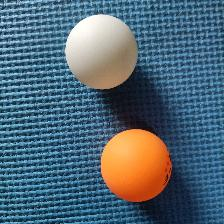WhiteBall: (63, 13, 138, 89)
YellowBall: (100, 128, 172, 202)
